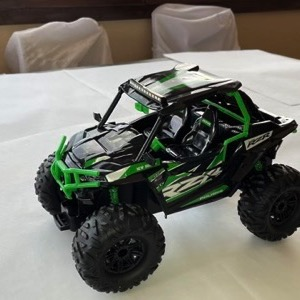polaris: (33, 64, 298, 292)
